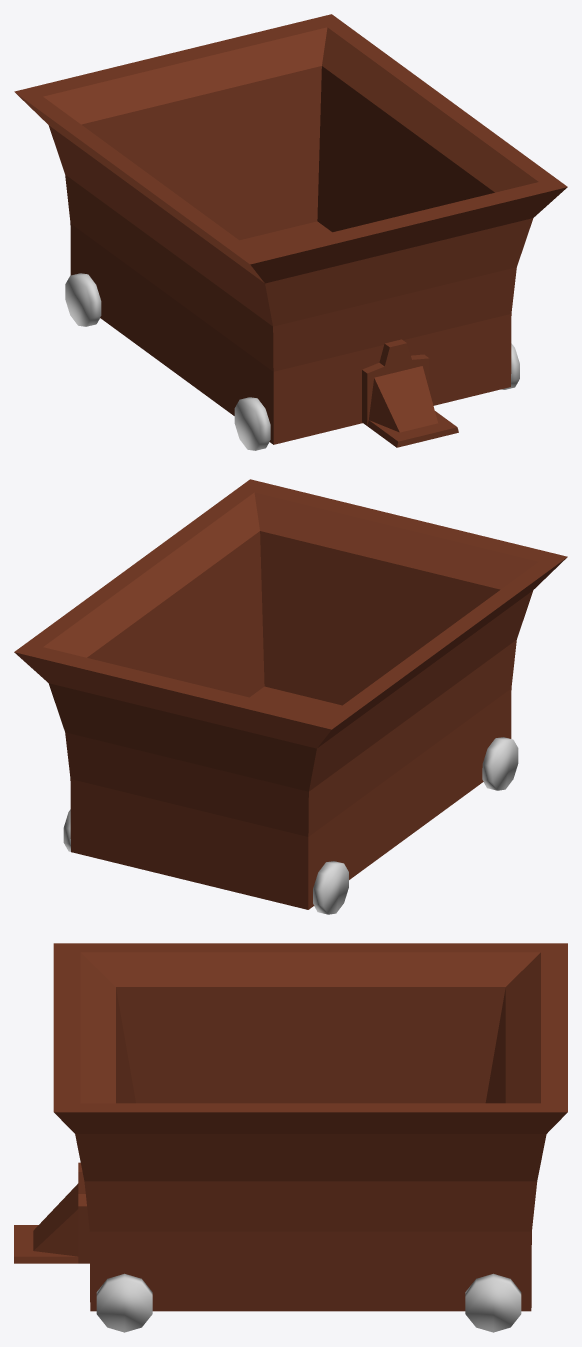
File: carrinho.fbx
The picture shows the model from 3 angles, top to bottom: view 1: azimuth 30°, elevation 25°; view 2: azimuth 150°, elevation 25°; view 3: azimuth 270°, elevation 25°; orthographic projection. The views are drawn at different scales.
Parts seen in each view (by area): view 1: carrinho; view 2: carrinho; view 3: carrinho.
Part boxes in pixels (box(x1,y1,x2,y2)): carrinho: box(14, 14, 567, 450); carrinho: box(14, 479, 567, 914); carrinho: box(14, 943, 567, 1332).
Size of the model in its own units: 7.99 by 5.2 by 11.08.
